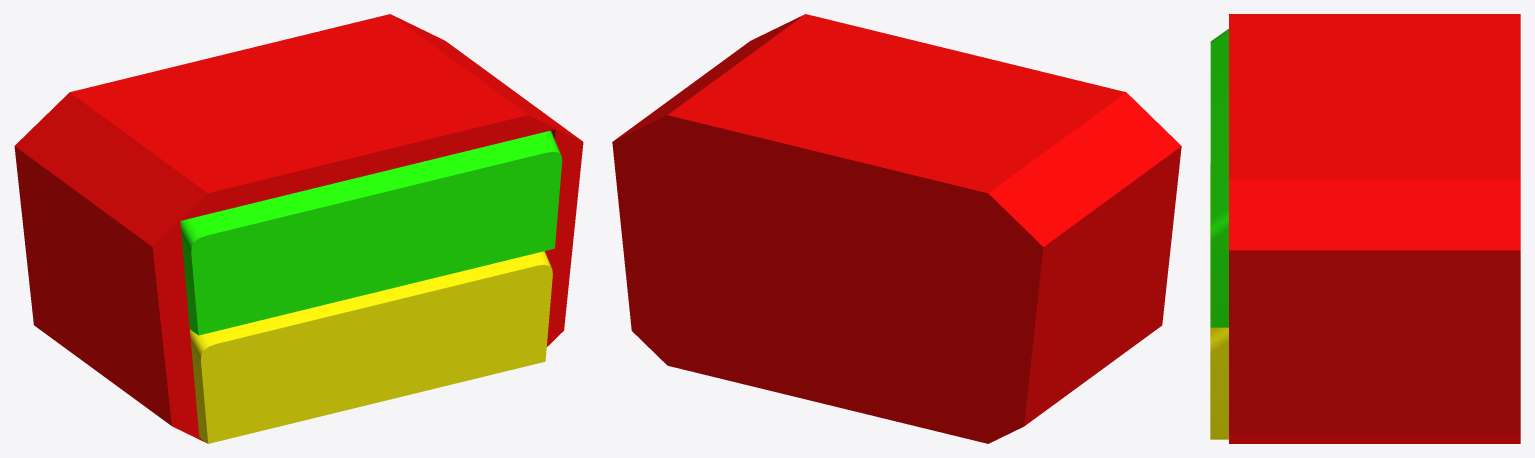
The model's file is umgebung_kommode_low.FBX.
3 renders of one model, left to right at view 1: azimuth 30°, elevation 25°; view 2: azimuth 150°, elevation 25°; view 3: azimuth 270°, elevation 25°, orthographic. The views are drawn at different scales.
Visible parts, largest first — view 1: o_kommode_low, o_schublade_oben_low, o_schublade_unten_low; view 2: o_kommode_low; view 3: o_kommode_low, o_schublade_oben_low, o_schublade_unten_low.
Boxes of the visible parts, x1=… form: o_kommode_low: x1=14, y1=14, x2=583, y2=442; o_schublade_oben_low: x1=180, y1=130, x2=562, y2=335; o_schublade_unten_low: x1=190, y1=251, x2=552, y2=443; o_kommode_low: x1=612, y1=14, x2=1181, y2=443; o_kommode_low: x1=1229, y1=14, x2=1520, y2=443; o_schublade_oben_low: x1=1210, y1=29, x2=1228, y2=327; o_schublade_unten_low: x1=1210, y1=163, x2=1228, y2=439.
Size of the model in its own units: 270 by 150 by 160.
